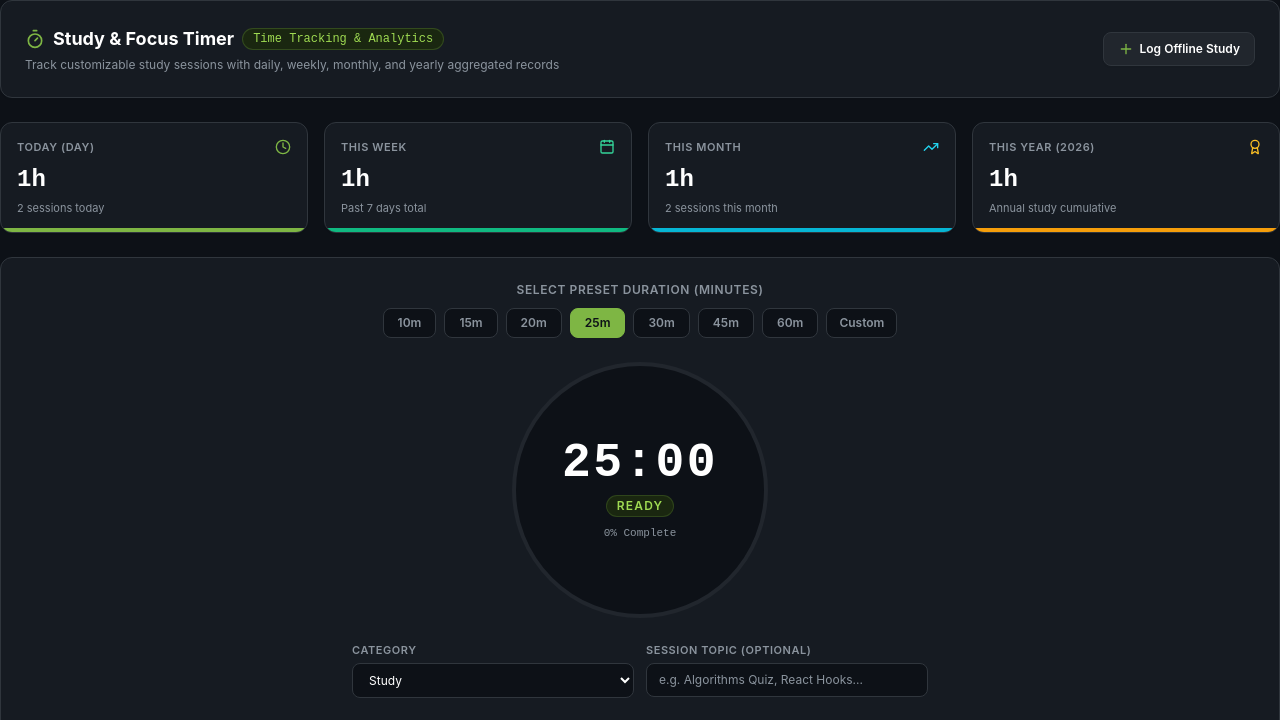
Test: FocusTimer Component › renders duration presets and switches active preset
Expected: the button "10m" is shown, [383, 308, 436, 338]
Expected: the button "20m" is shown, [506, 308, 562, 338]
Note: Click 15m preset
Click the button "15m": click(471, 323) [444, 308, 498, 338]
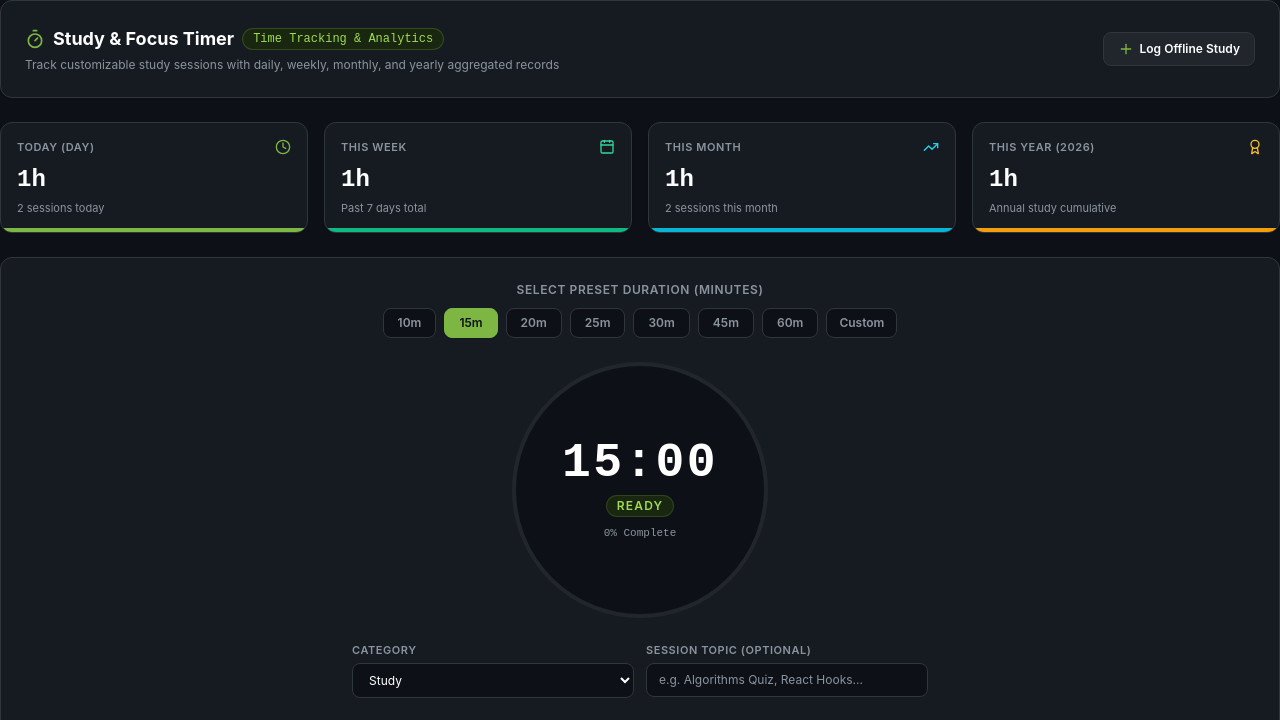
Now the text "15:00" is shown, box [562, 439, 718, 487]
